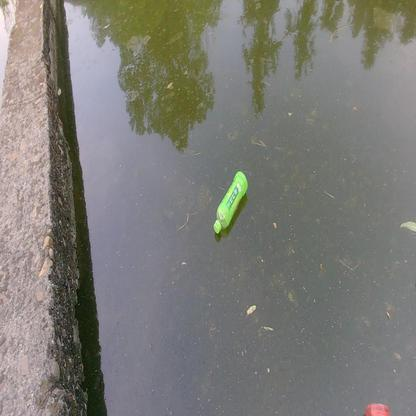plastic bottle: (214, 170, 249, 234), (365, 403, 391, 416)
